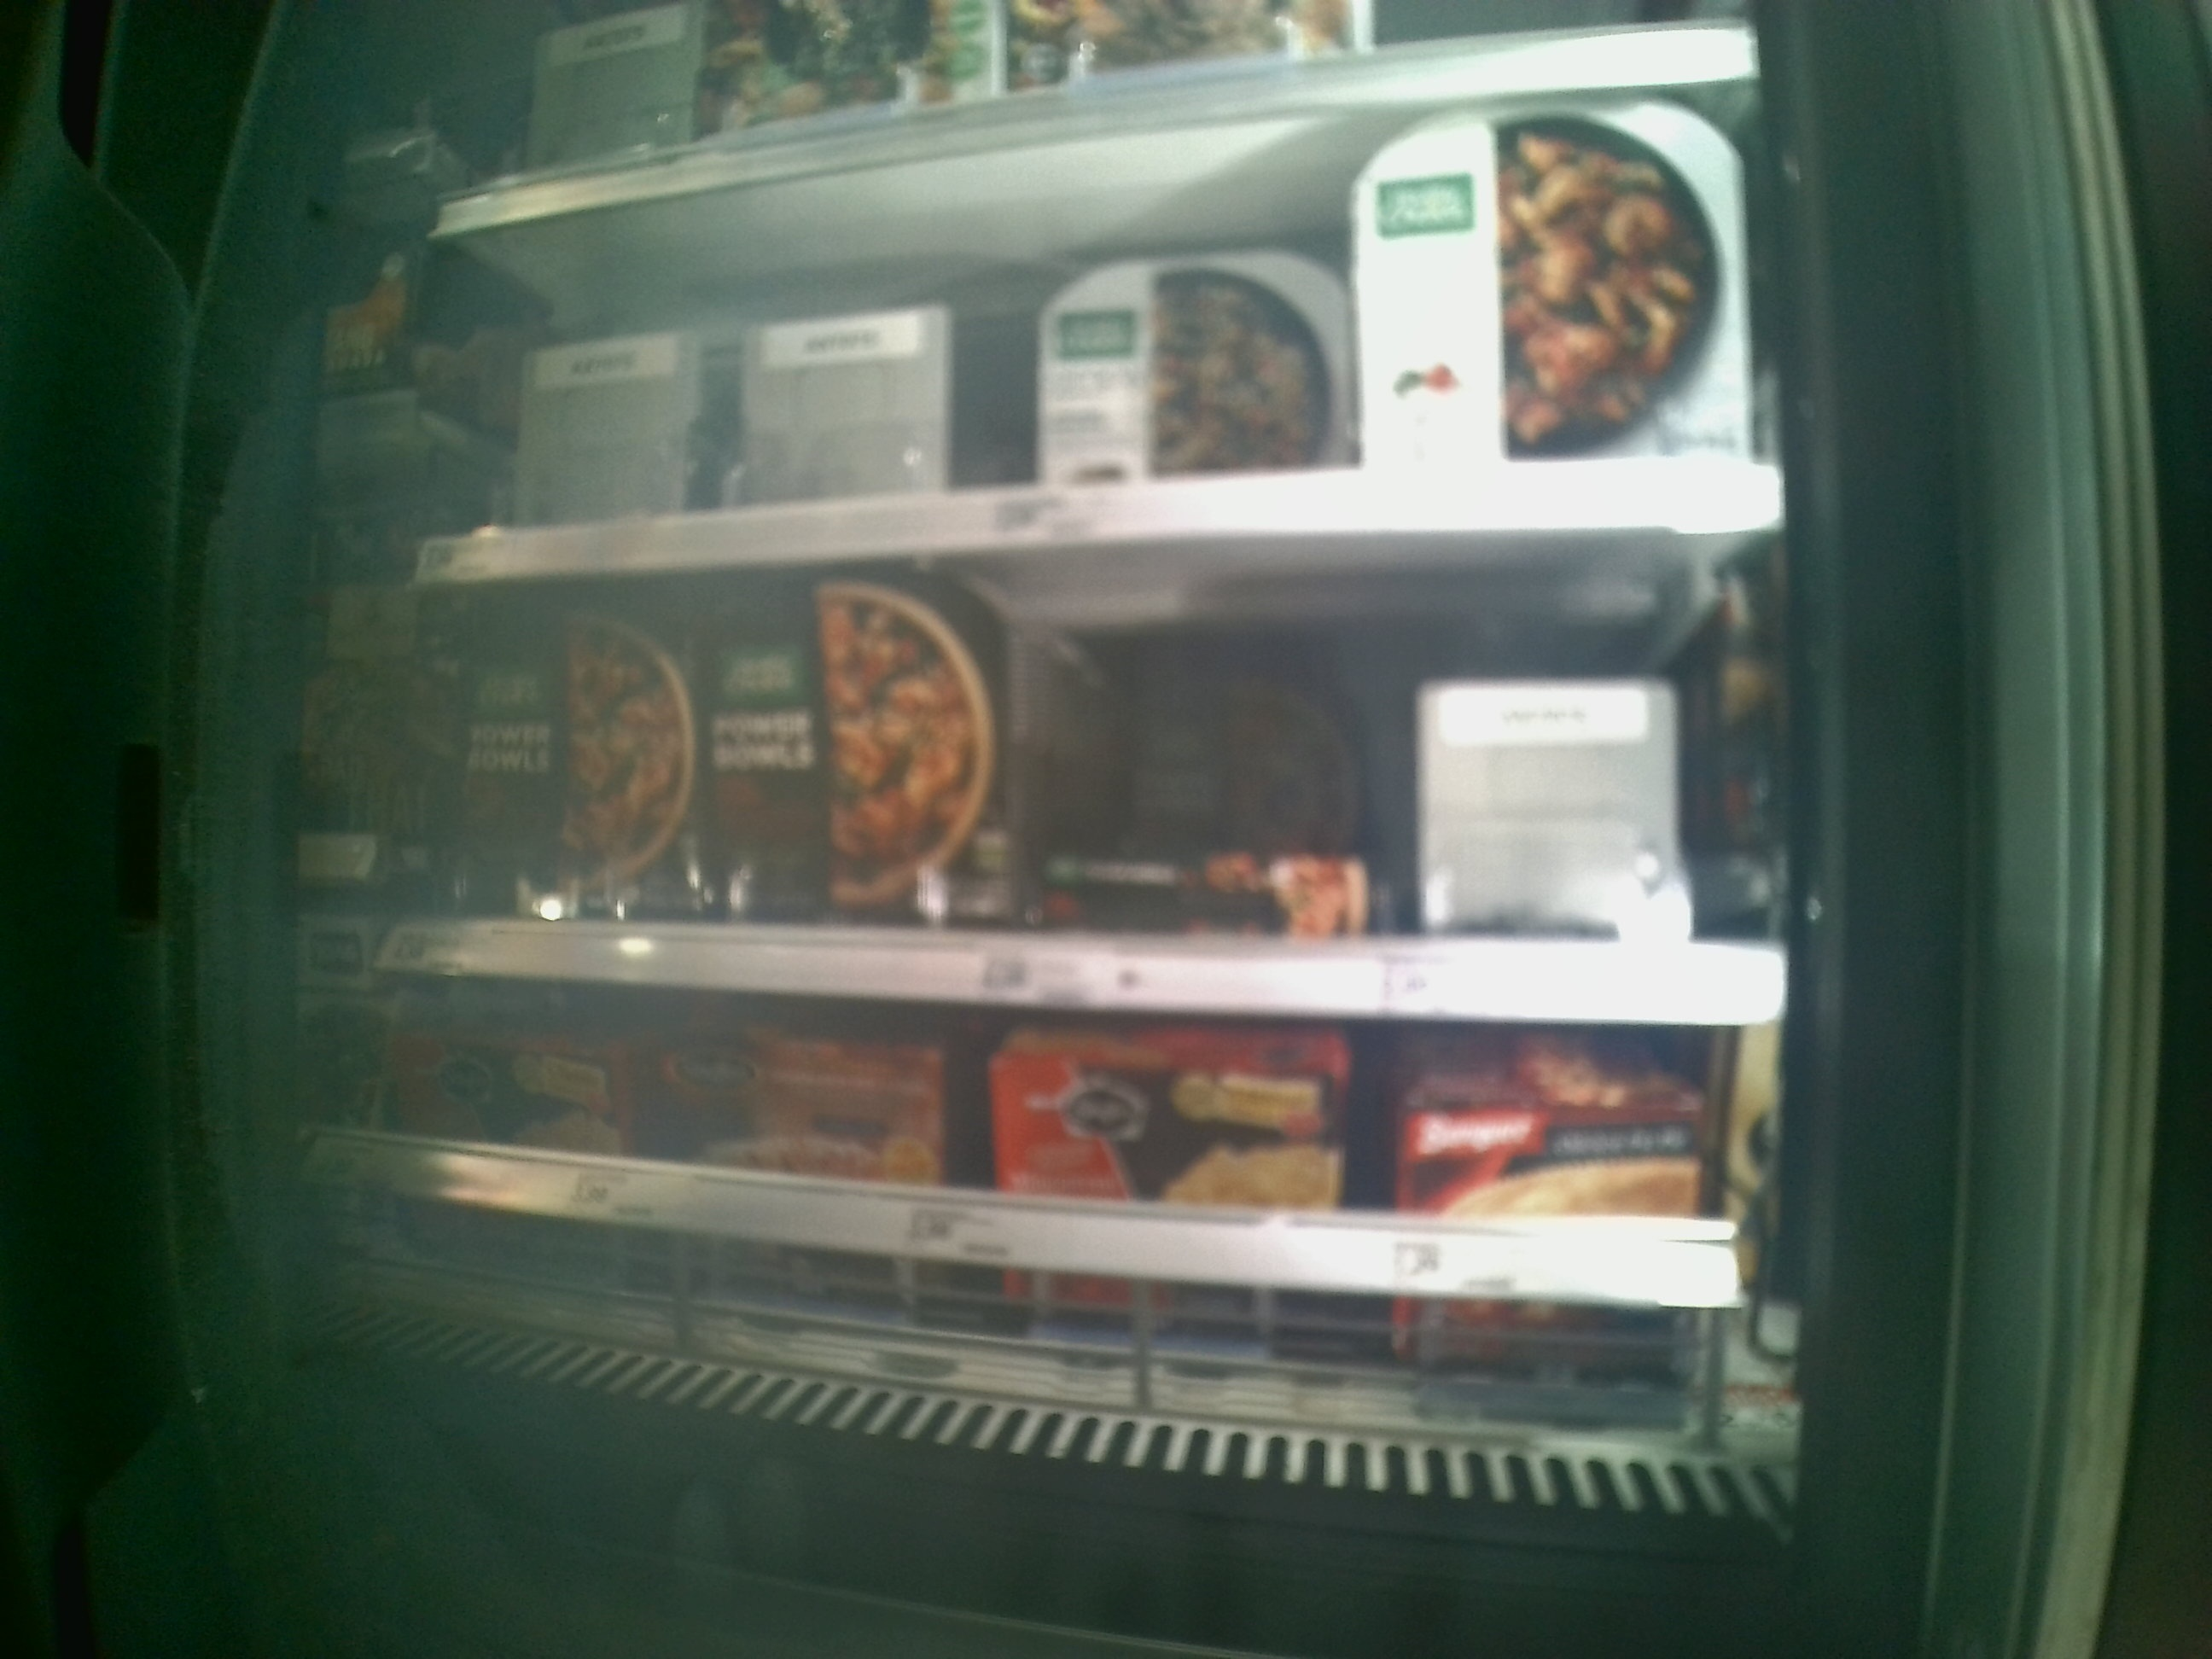shelf: (404, 535, 1782, 1019), (343, 978, 1792, 1391)
